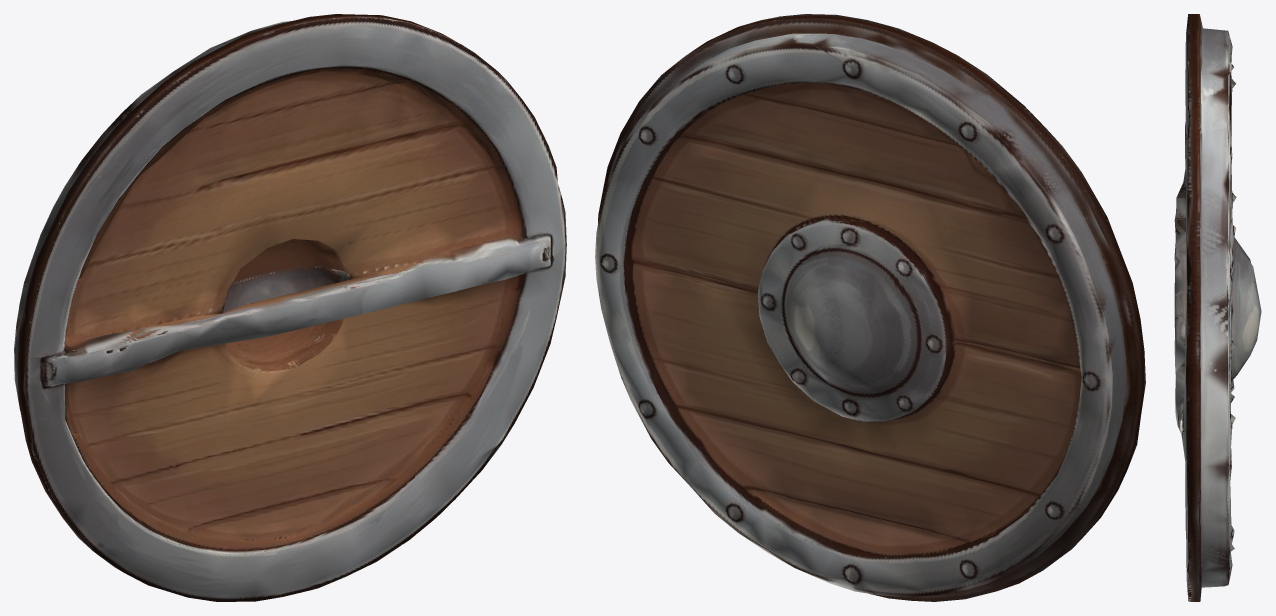
File: SM_Gear_Shield.fbx
3 renders of one model, left to right at view 1: azimuth 30°, elevation 25°; view 2: azimuth 150°, elevation 25°; view 3: azimuth 270°, elevation 25°, orthographic. The views are drawn at different scales.
Parts seen in each view (by area): view 1: SM_Gear_Shield; view 2: SM_Gear_Shield; view 3: SM_Gear_Shield.
Part boxes in pixels (left/top/right/bottom): SM_Gear_Shield: left=14, top=14, right=566, bottom=601; SM_Gear_Shield: left=595, top=14, right=1145, bottom=601; SM_Gear_Shield: left=1174, top=14, right=1261, bottom=601.
Size of the model in its own units: 0.5503 by 0.551 by 0.0817.
